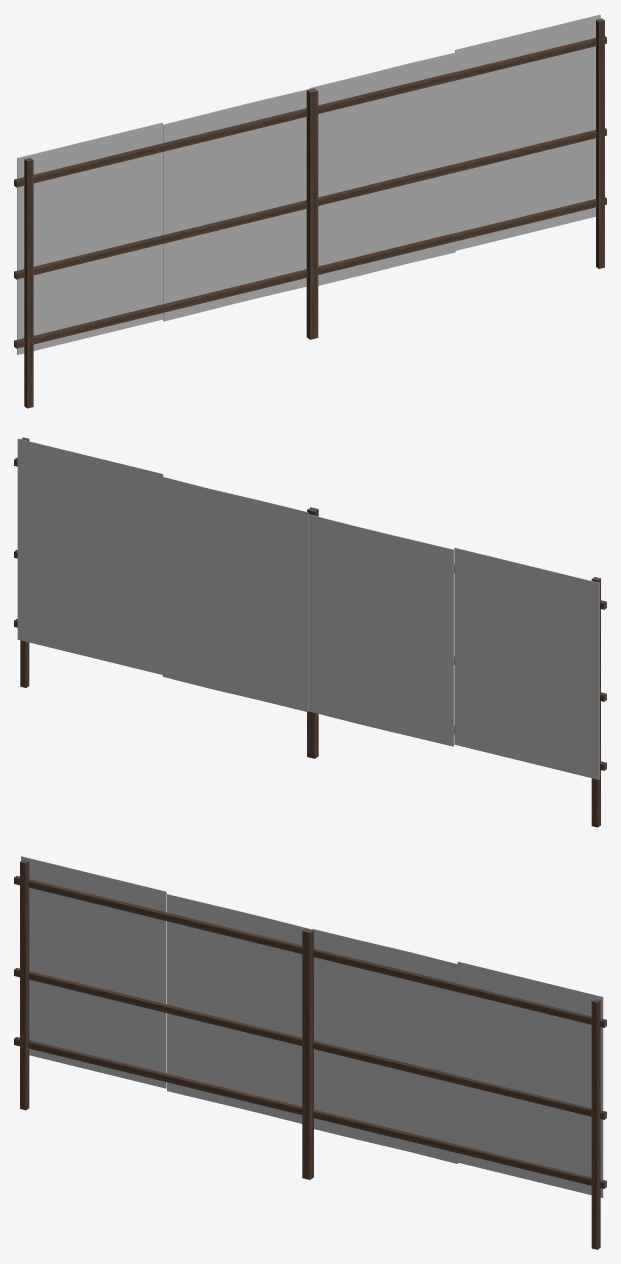
Rendered from fence05a_2t.fbx.
3 renders of one model, top to bottom at view 1: azimuth 30°, elevation 25°; view 2: azimuth 150°, elevation 25°; view 3: azimuth 330°, elevation 25°, orthographic.
Visible parts, largest first — view 1: fence05a_2t; view 2: fence05a_2t; view 3: fence05a_2t.
Part boxes in pixels (x1=…): fence05a_2t: x1=14, y1=14, x2=606, y2=408; fence05a_2t: x1=14, y1=437, x2=606, y2=827; fence05a_2t: x1=14, y1=856, x2=606, y2=1249.
Size of the model in its own units: 445 by 180 by 8.72.
